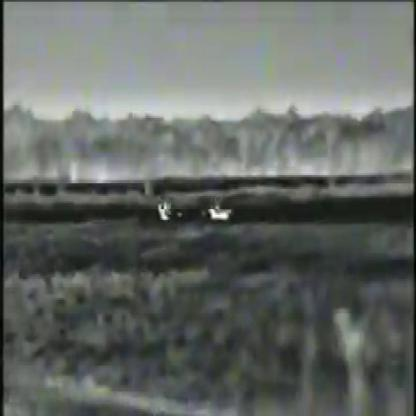rehkitze: (156, 198, 175, 227), (206, 207, 233, 225)
